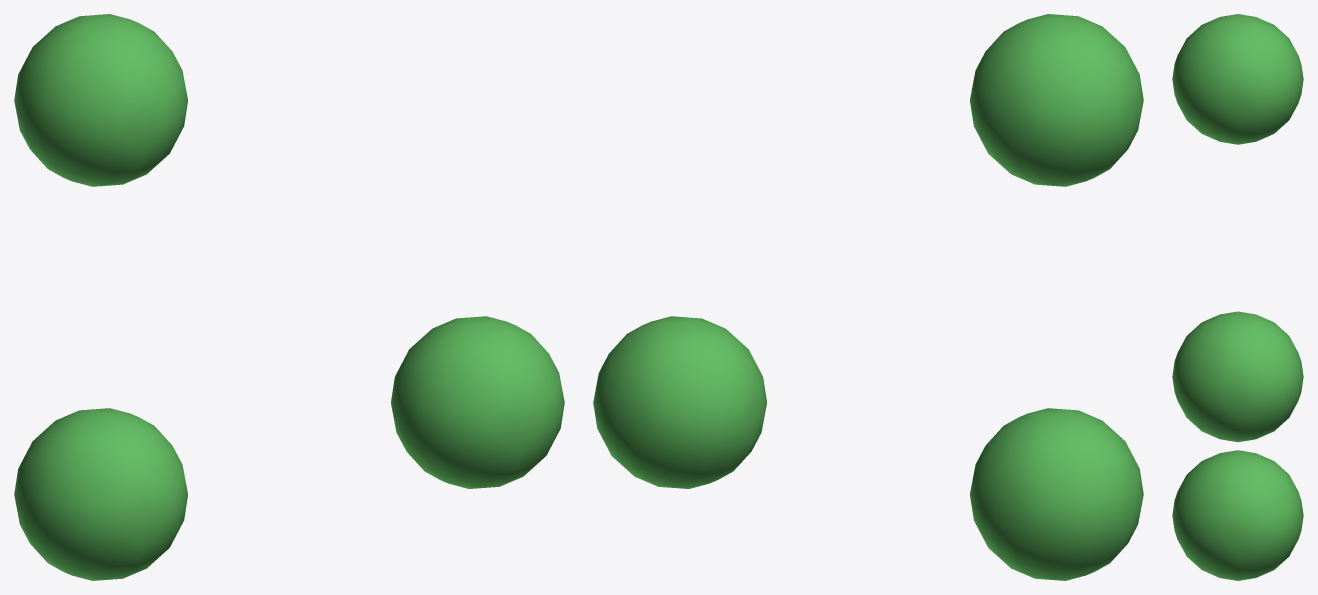
The model's file is expected.gltf.
The picture shows the model from 3 angles, left to right: view 1: azimuth 30°, elevation 25°; view 2: azimuth 150°, elevation 25°; view 3: azimuth 270°, elevation 25°; orthographic projection. The views are drawn at different scales.
Size of the model in its own units: 42 by 42 by 12.
